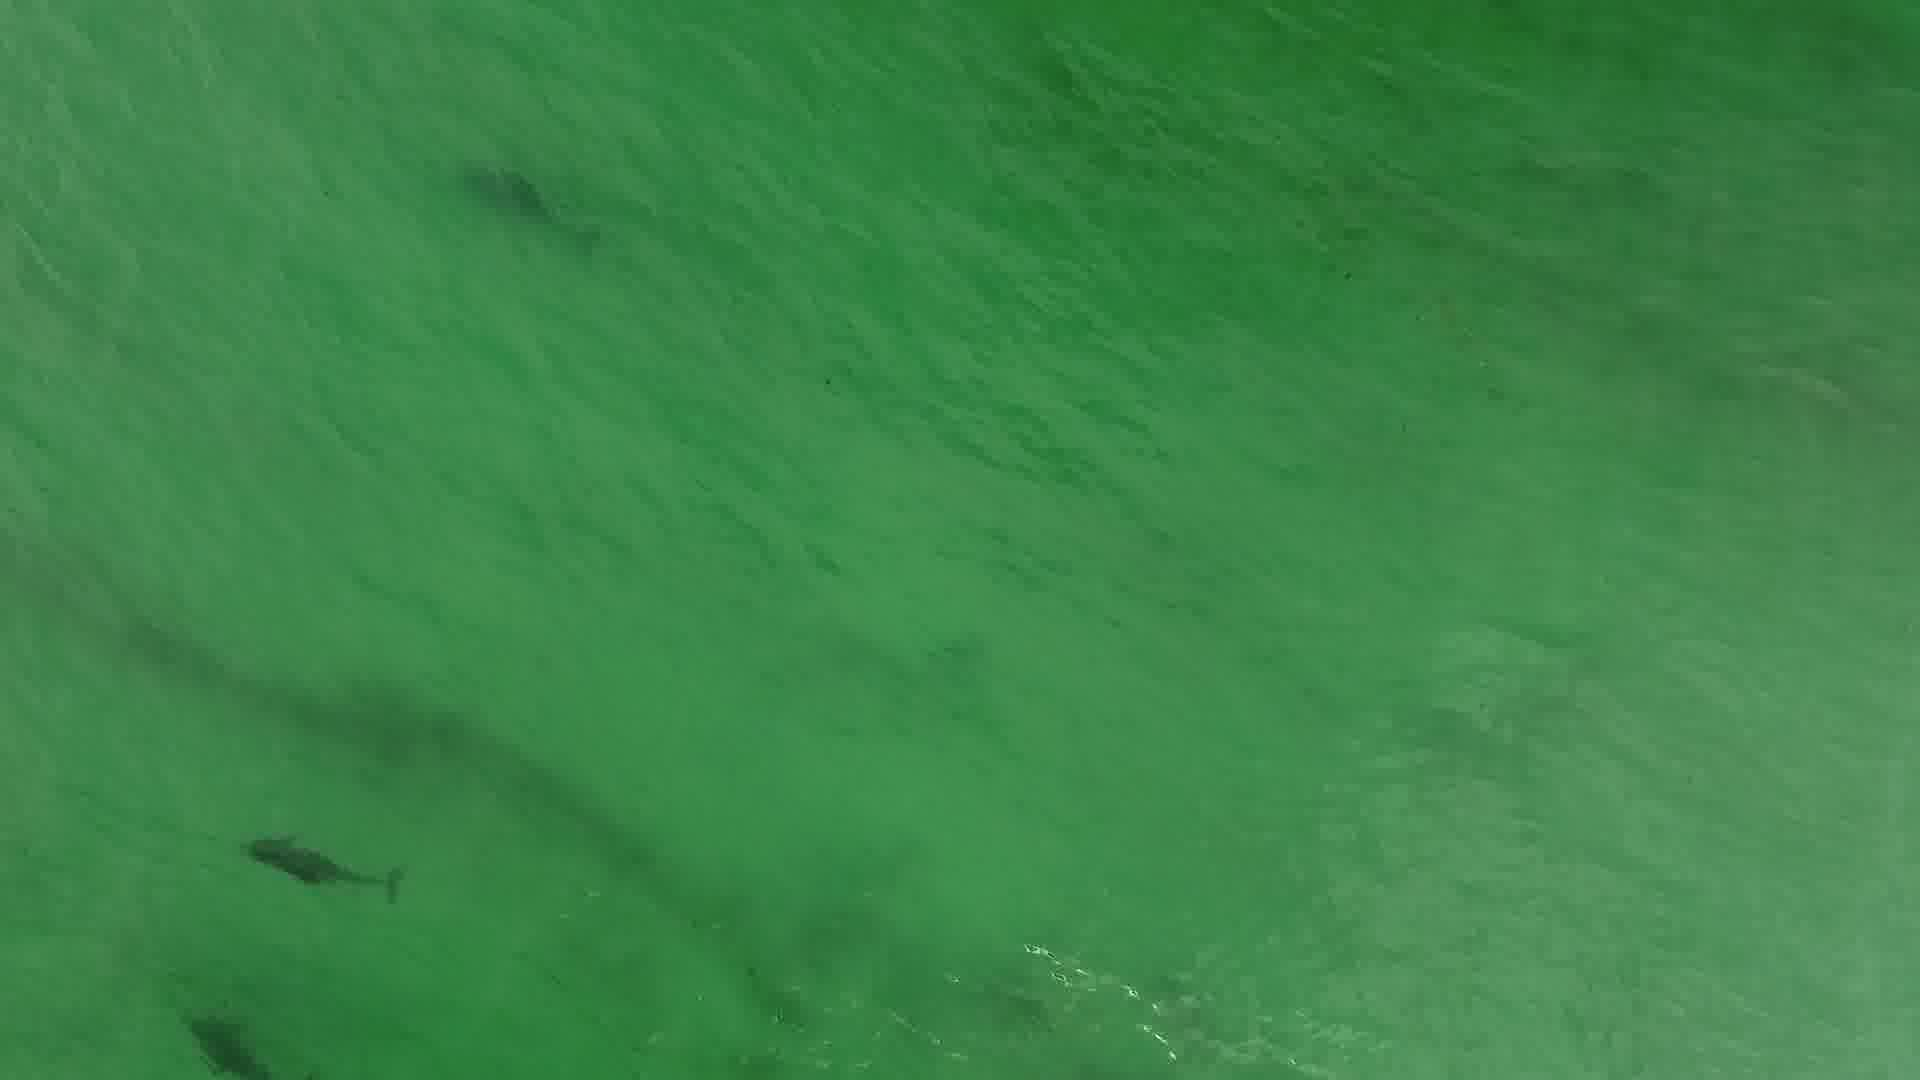dolphin: (232, 791, 417, 919), (146, 959, 276, 1080)
